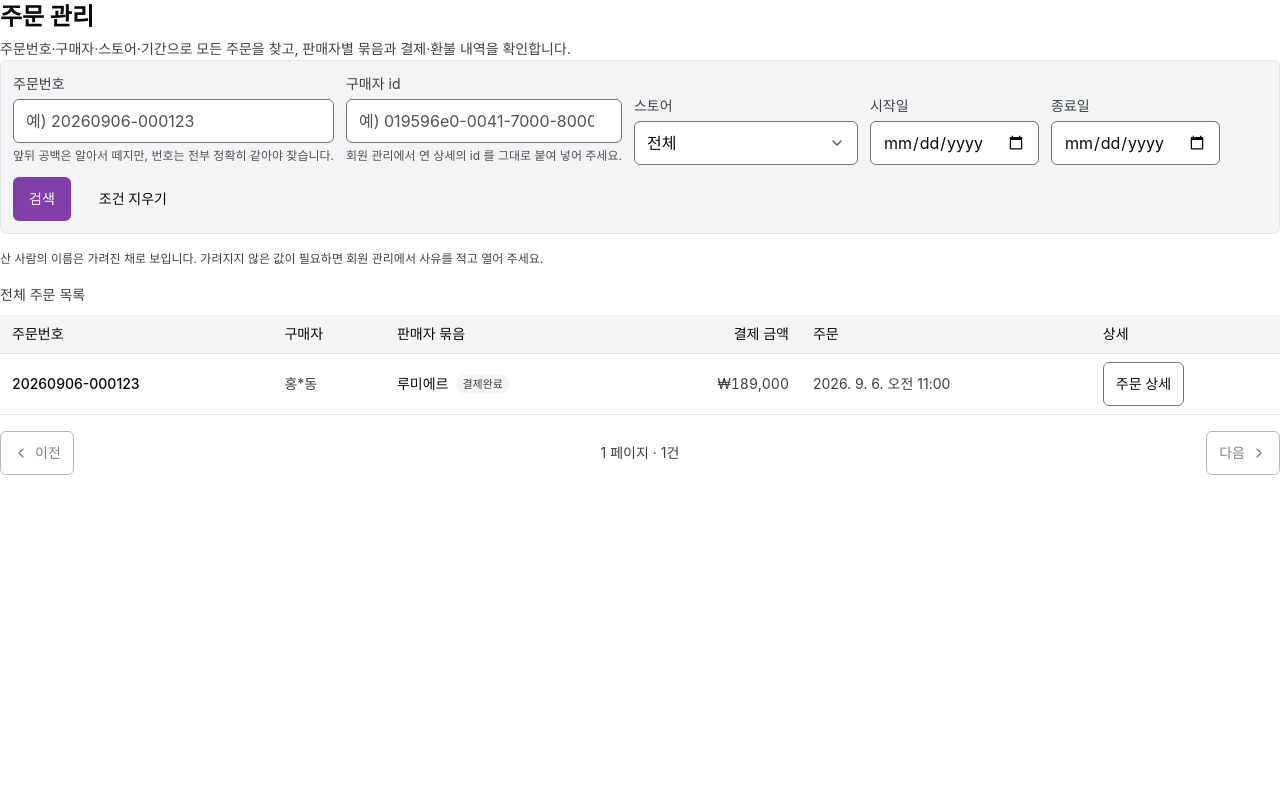
주문 상세 (F5 · F6 · F7) › says 승인 전 rather than leaving the approval time blank
Expected: the table "전체 주문 목록" is shown, [0, 284, 1279, 415]
Step 1. Click the button "주문 상세" → coordinates (1144, 384), box [1103, 362, 1184, 406]
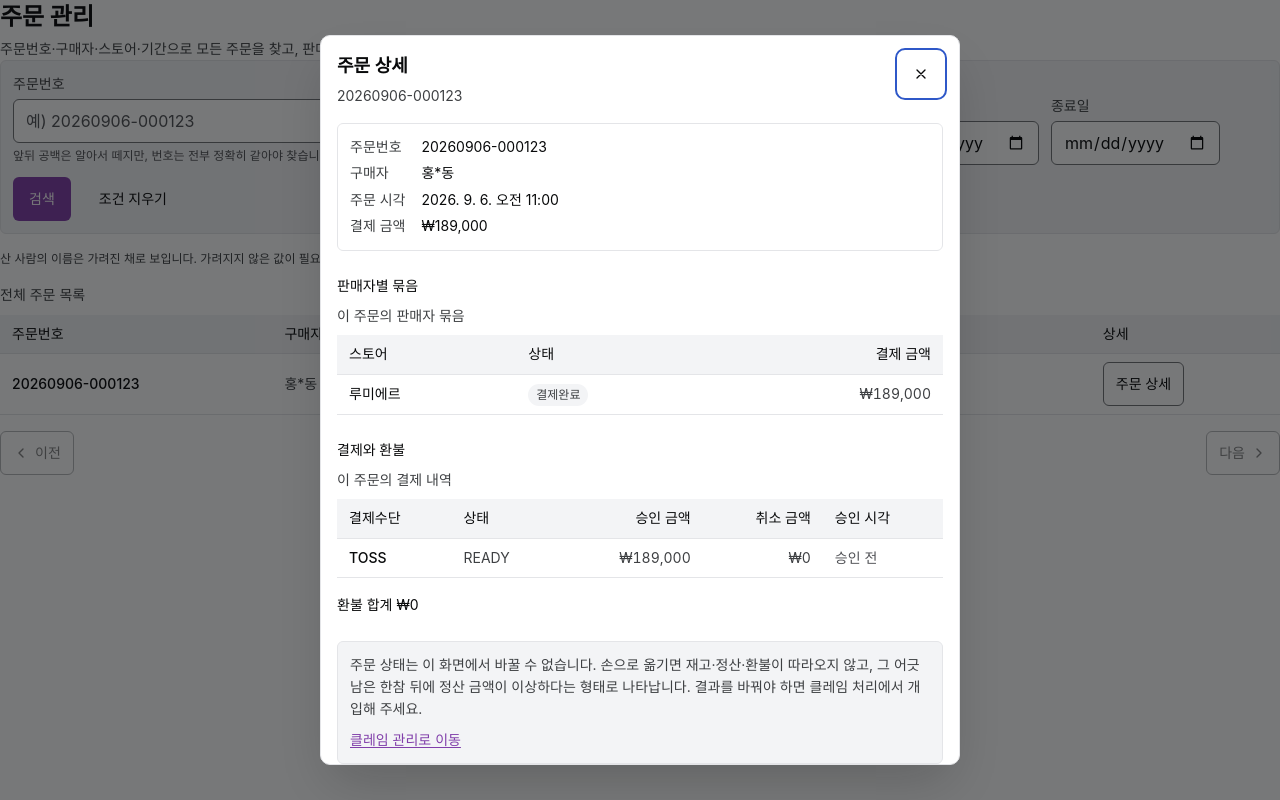
Now the text "승인 전" is shown, box [835, 549, 878, 566]
